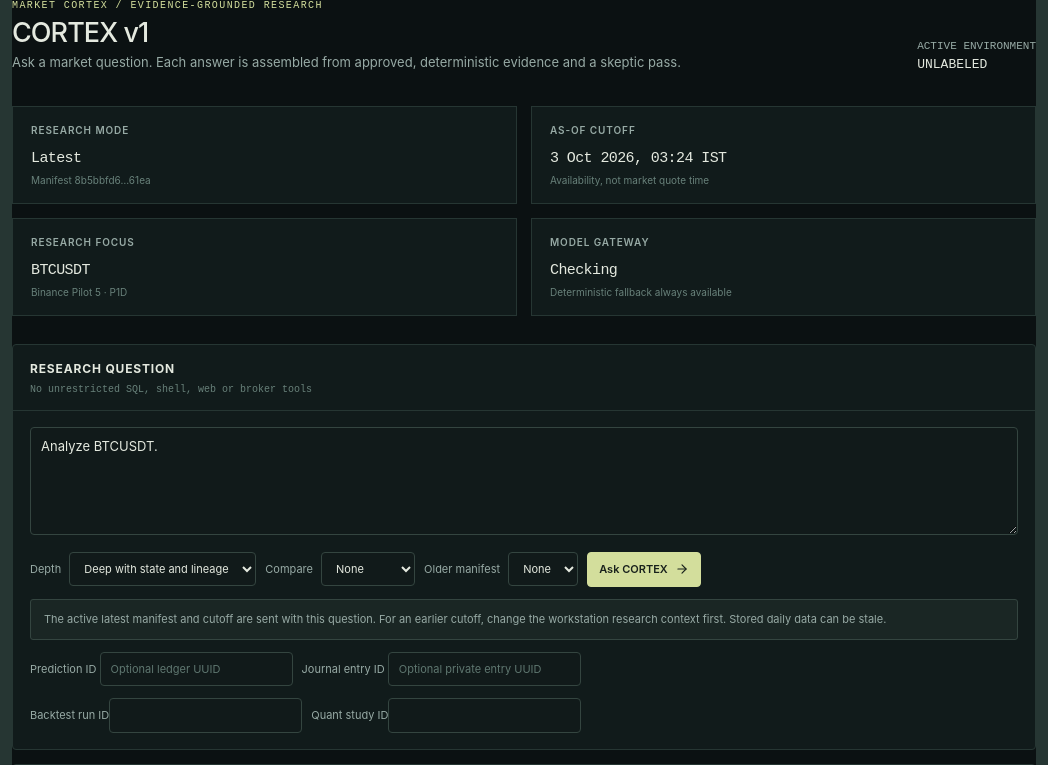
Test: CORTEX workstation › shows failed research without inventing market values
This screenshot has width=1048, height=765.
Click the button "Ask CORTEX": (644, 569) 587,552 -> 701,586
(page scrolled)
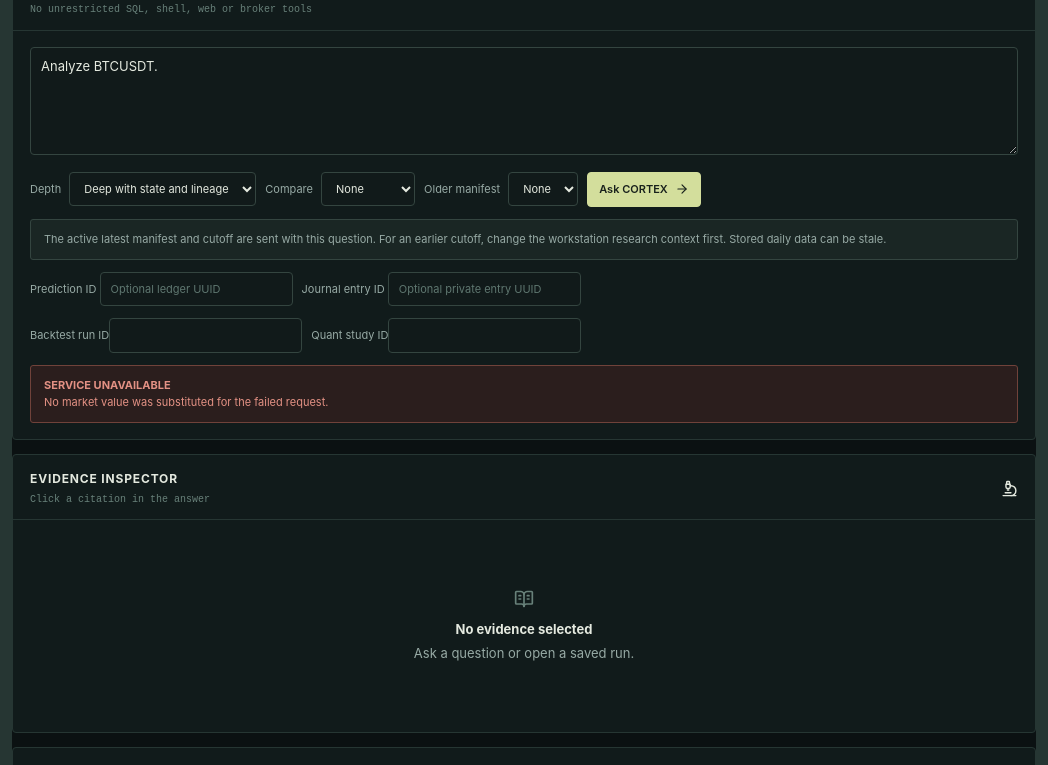
Expected: the text "SERVICE UNAVAILABLE" is shown, 44,378 -> 171,392
